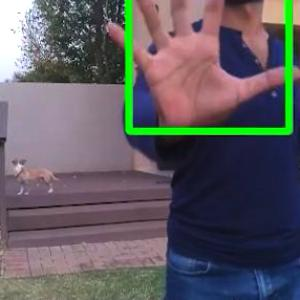follow_hand: (98, 0, 299, 129)
